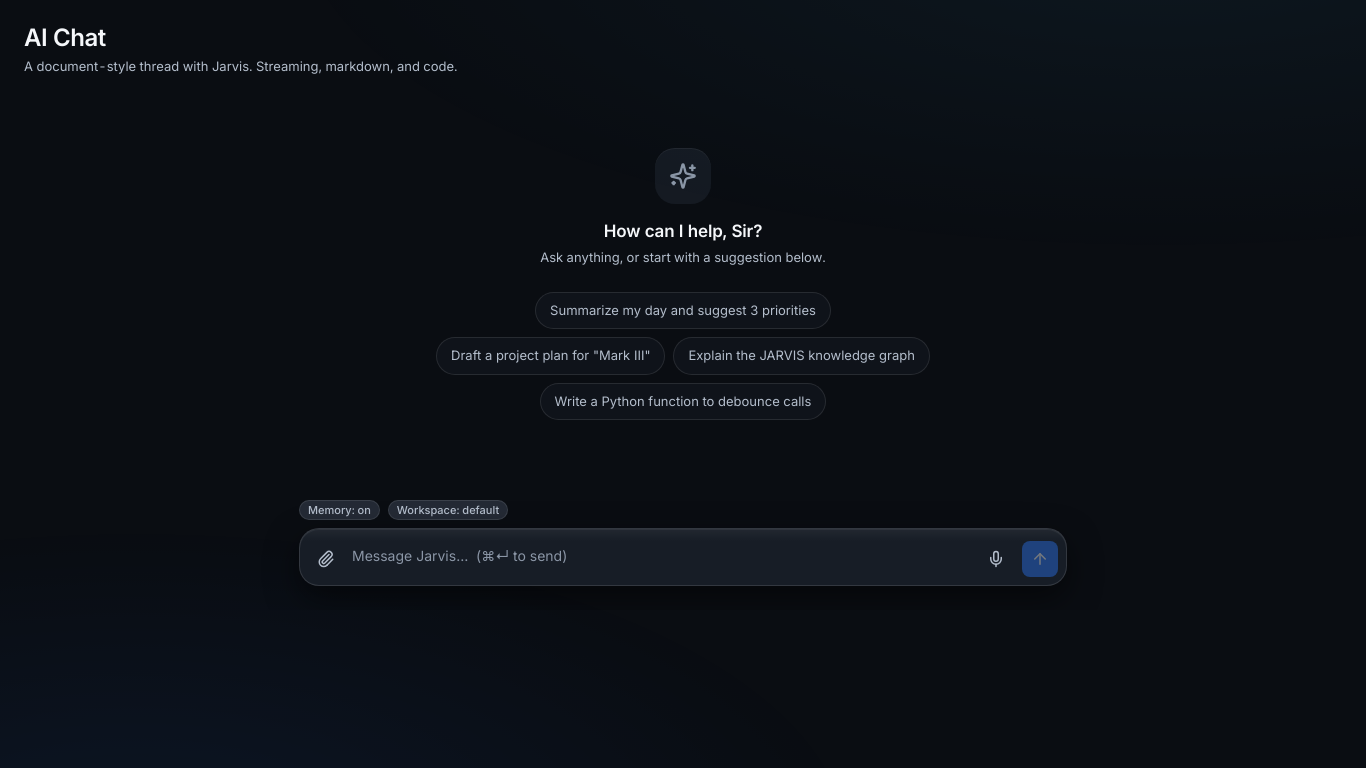
ChatPage › streams an assistant reply from the seam
This screenshot has width=1366, height=768.
Type "hi" into the text box with test id "chat-input" at (661, 557), box [352,537,970,577]
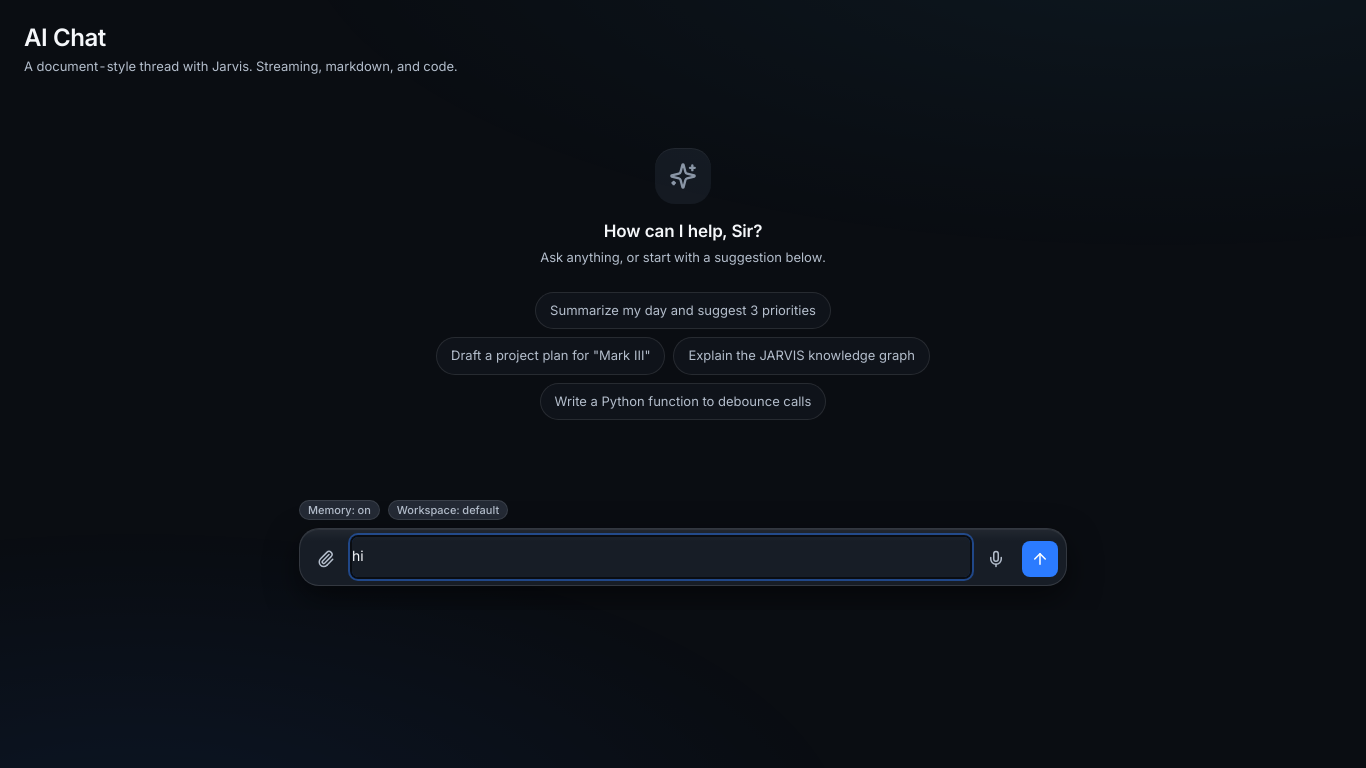
Click the button with test id "chat-send" at (1040, 559), box [1022,541,1058,577]
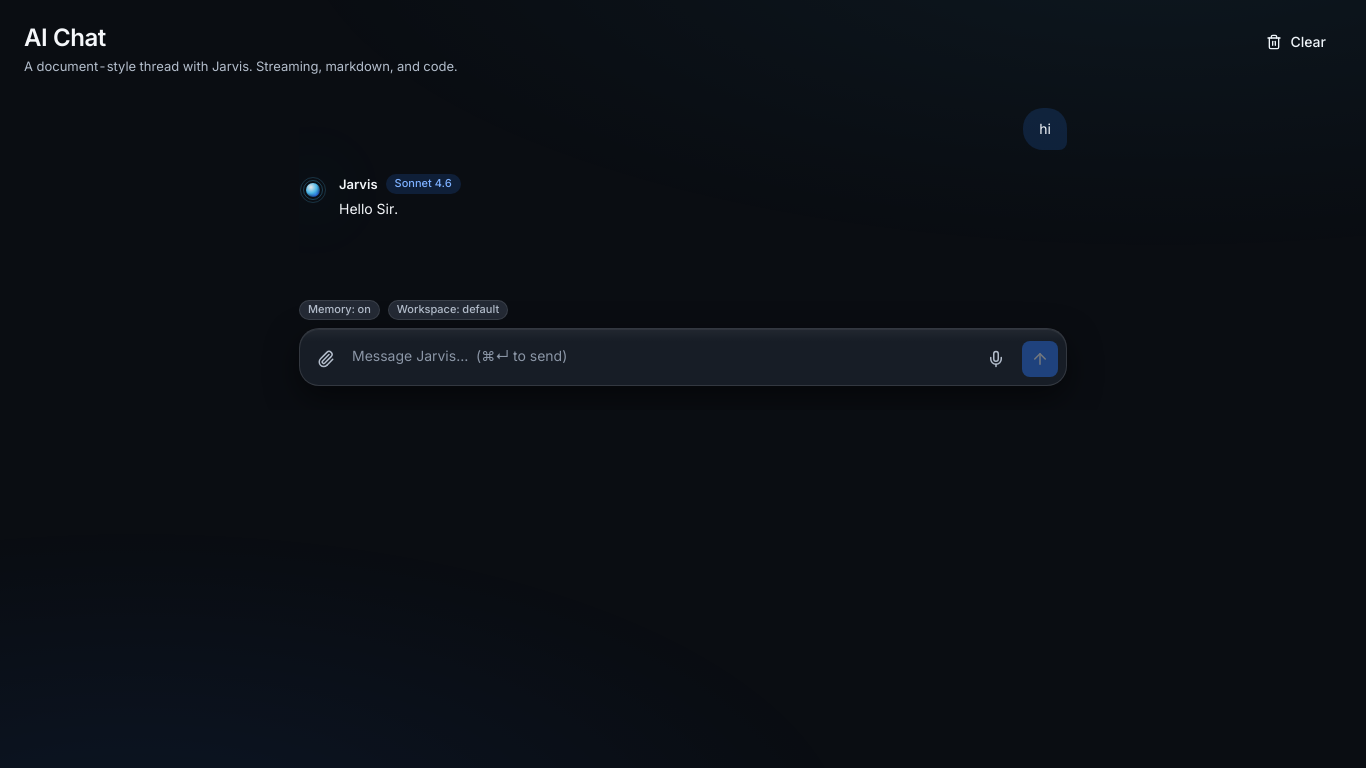
Expected: the text "Jarvis" is shown, [339,176,378,192]
Result: the text "Hello Sir." is shown at [339,200,398,217]
